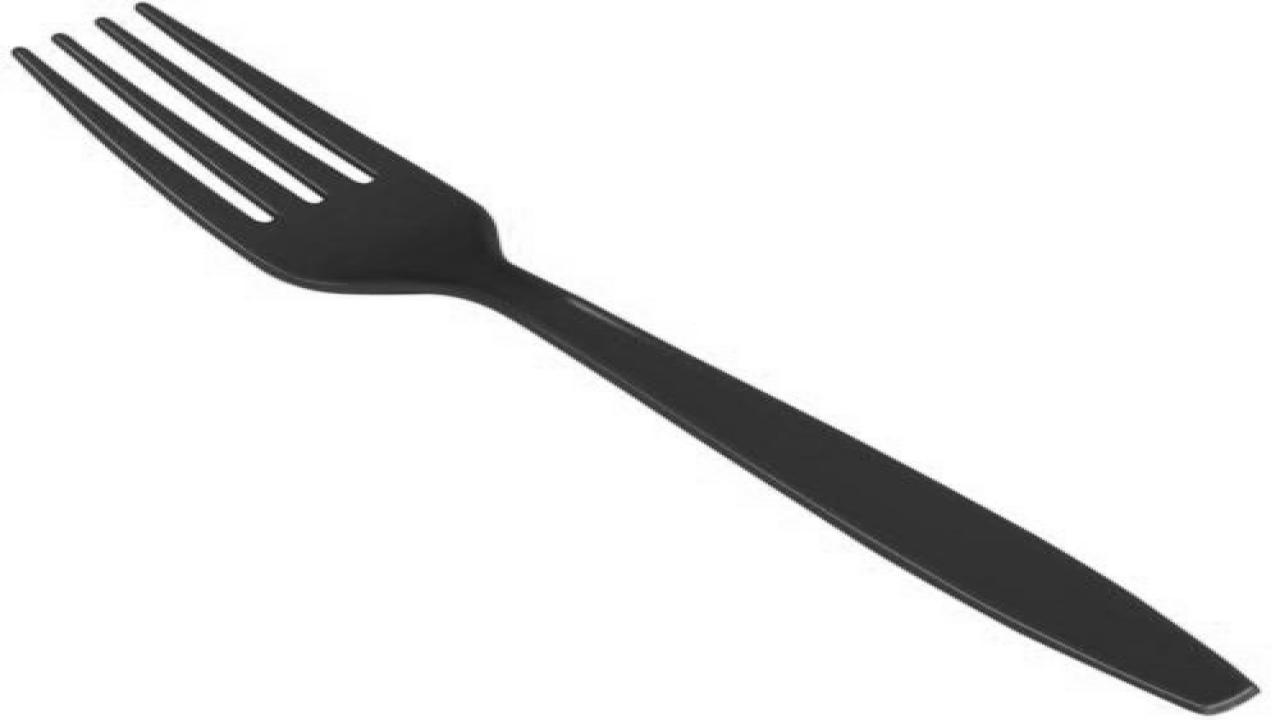fork: (8, 0, 1260, 717)
